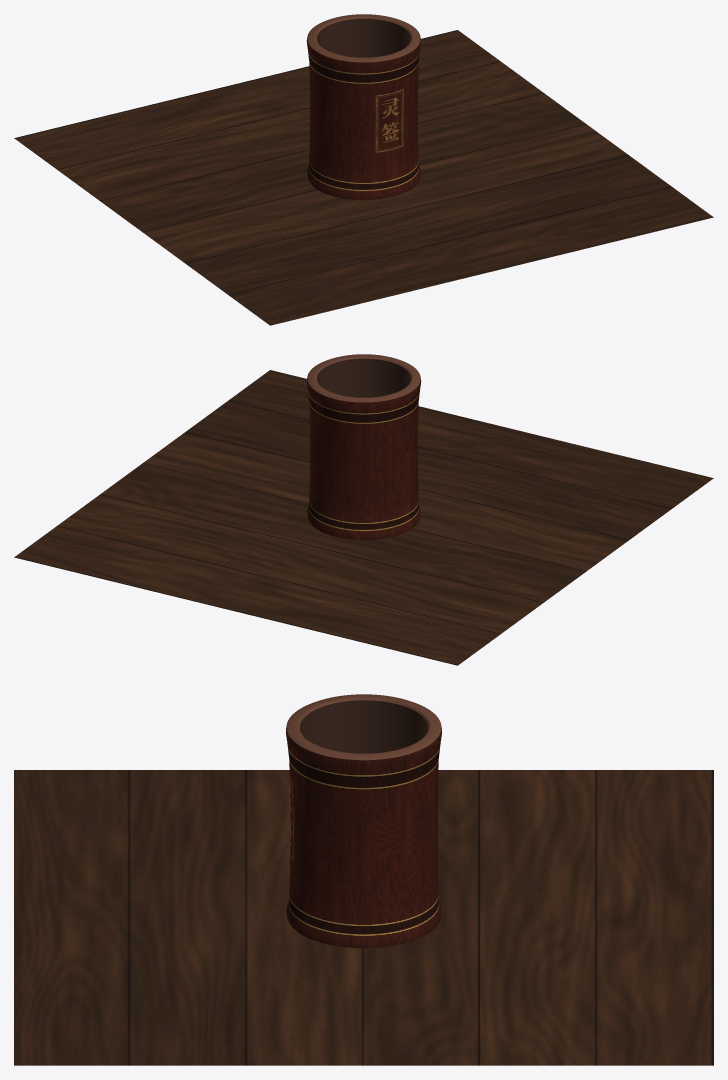
File: fortune-lots.glb
3 renders of one model, top to bottom at view 1: azimuth 30°, elevation 25°; view 2: azimuth 150°, elevation 25°; view 3: azimuth 270°, elevation 25°, orthographic. The views are drawn at different scales.
Parts seen in each view (by area): view 1: TABLE, CUP_OUTER, CUP_INNER, CUP_RIM; view 2: TABLE, CUP_OUTER, CUP_INNER, CUP_RIM; view 3: TABLE, CUP_OUTER, CUP_INNER, CUP_RIM.
Boxes of the visible parts, x1,y1,x2,y2 form: TABLE: [14, 30, 713, 325]; CUP_OUTER: [306, 38, 421, 200]; CUP_INNER: [317, 18, 410, 57]; CUP_RIM: [307, 14, 420, 62]; TABLE: [14, 370, 713, 665]; CUP_OUTER: [306, 378, 421, 540]; CUP_INNER: [317, 358, 410, 397]; CUP_RIM: [307, 354, 420, 402]; TABLE: [14, 770, 713, 1065]; CUP_OUTER: [286, 728, 441, 948]; CUP_INNER: [300, 700, 427, 753]; CUP_RIM: [286, 694, 441, 760].
Bounding box in the file's own units: 2.4 × 1.23 × 2.4.
Materials: 5 (3 with a texture image).
